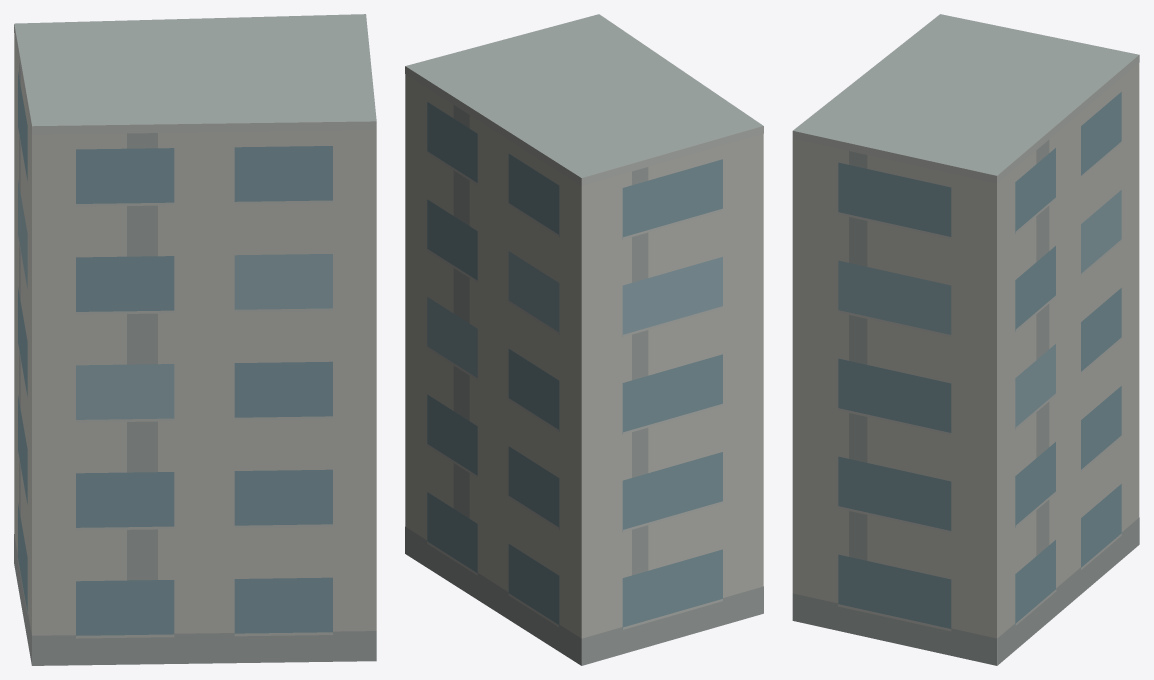
The model's file is survey-upis-32727046.glb.
3 renders of one model, left to right at view 1: azimuth 30°, elevation 25°; view 2: azimuth 150°, elevation 25°; view 3: azimuth 270°, elevation 25°, orthographic. The views are drawn at different scales.
Visible parts, largest first — view 1: survey-upis-32727046.tmp; view 2: survey-upis-32727046.tmp; view 3: survey-upis-32727046.tmp.
Part boxes in pixels (x1,y1,x2,y2): survey-upis-32727046.tmp: (14, 14, 376, 665); survey-upis-32727046.tmp: (405, 14, 763, 665); survey-upis-32727046.tmp: (792, 14, 1139, 665).
Bounding box in the file's own units: 10.81 × 15.25 × 9.79.
